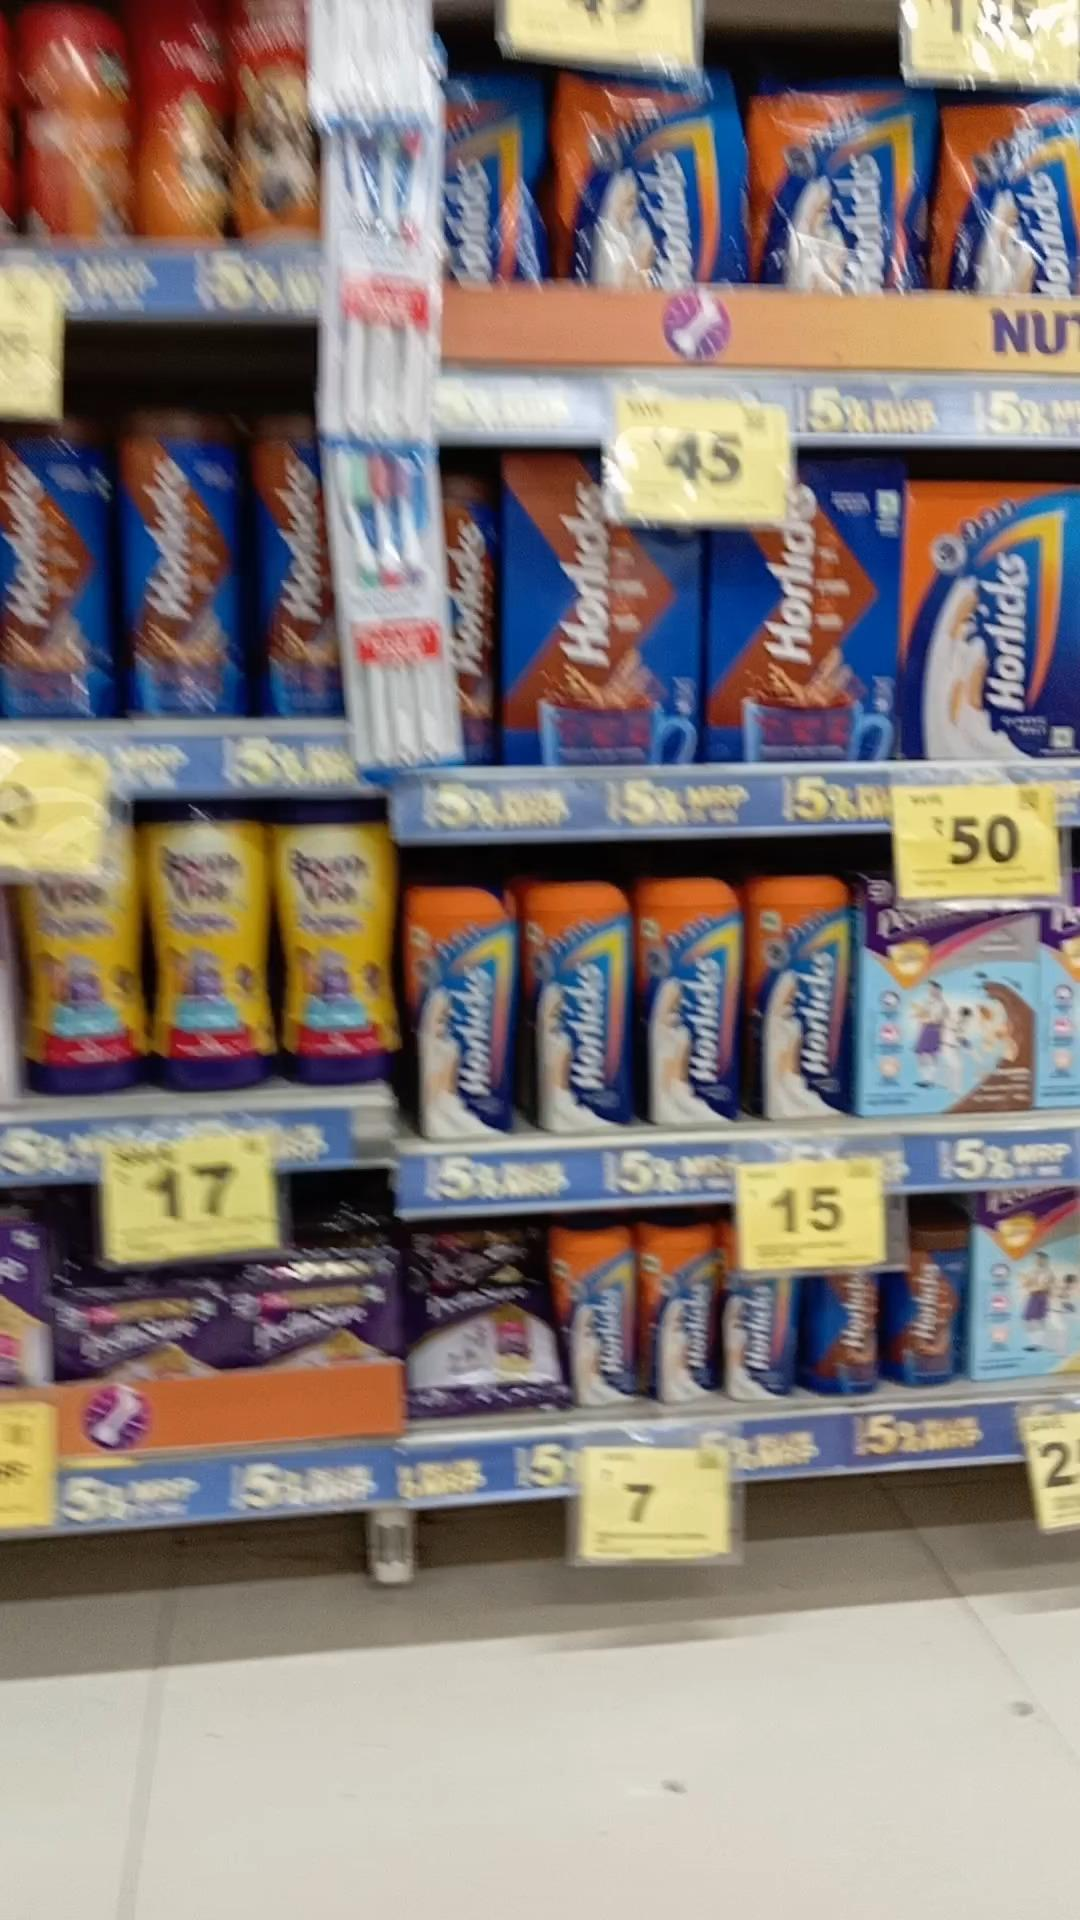BOURN_VITA_CHAMPS_500_G_JAR: (145, 804, 266, 1092), (278, 796, 393, 1084), (15, 872, 136, 1098)
HORLICK_CHOCOLATE_1_KG_JAR: (121, 405, 248, 724), (0, 413, 107, 720), (249, 413, 336, 719)
HORLICK_CHOCOLATE_1_KG_PACK: (510, 459, 699, 762), (715, 495, 898, 762)
HORLICK_CHOCOLATE_200_G_JAR: (891, 1215, 959, 1387), (812, 1267, 878, 1396)
HORLICK_CLASSIC_MALT_200_G_JAR: (638, 1221, 715, 1404), (563, 1233, 634, 1403), (712, 1276, 794, 1407)
HORLICK_CLASSIC_MALT_500_G_JAR: (517, 882, 629, 1131), (409, 874, 505, 1145), (745, 874, 849, 1116), (641, 878, 736, 1126)
HORLICK_CLASSIC_MALT_750_G_POUCH: (553, 69, 728, 290), (750, 91, 914, 289), (938, 94, 1080, 294)
PEDIASURE_7_PLUS_CHOCOLATE_400_G_PACK: (866, 902, 1043, 1121)
